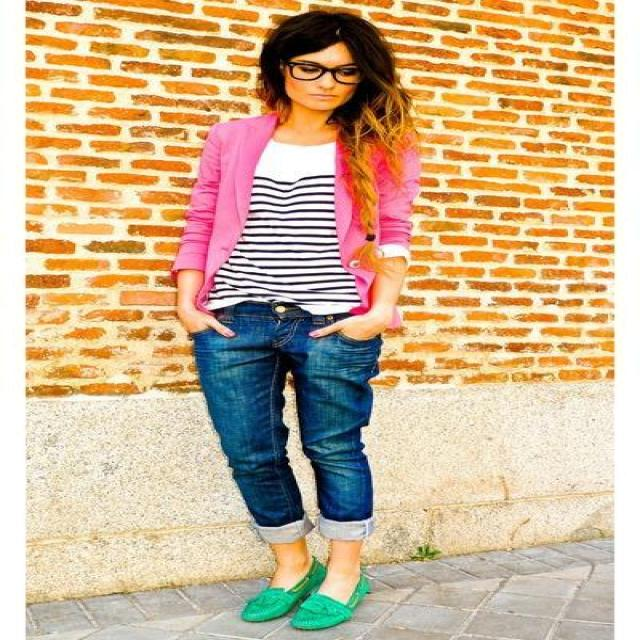jacket: (173, 115, 440, 315)
pants: (189, 299, 382, 550)
shirt: (206, 140, 360, 314)
shoe: (240, 568, 389, 630)
